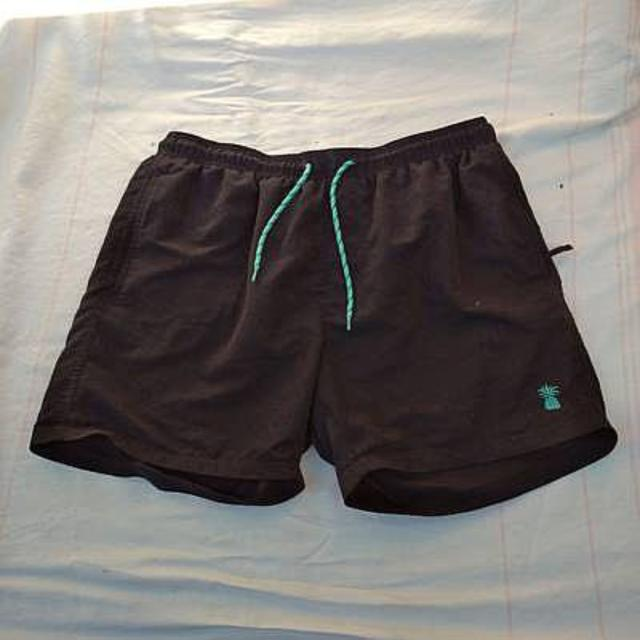SHORT: (16, 111, 634, 528)
